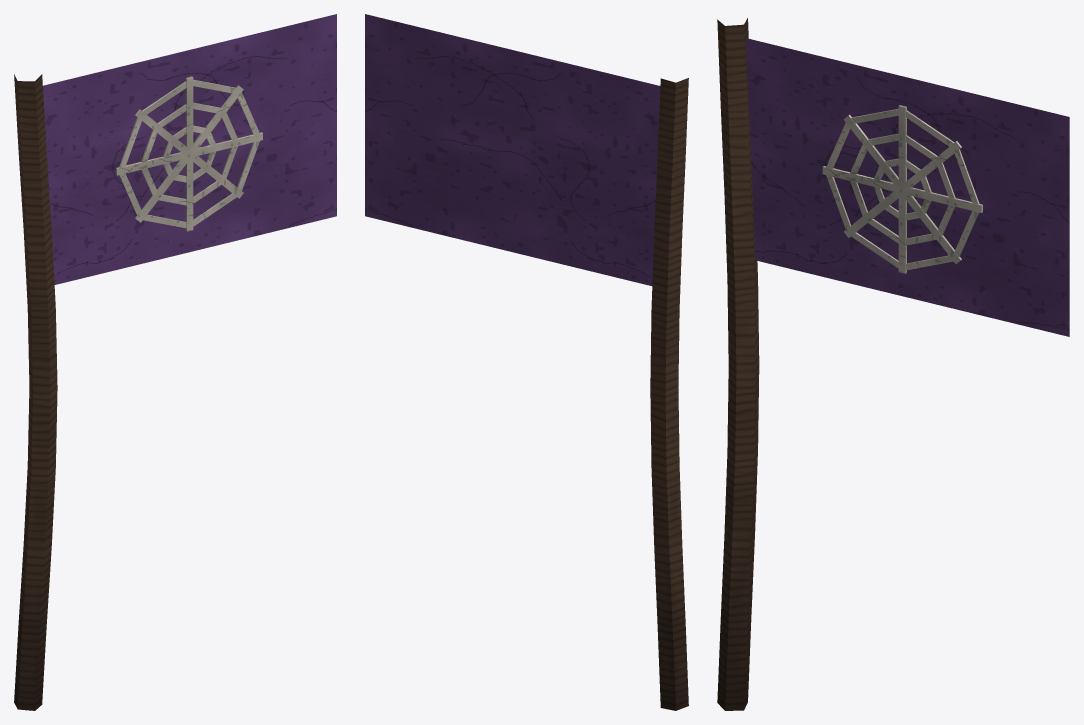
Rendered from flag_tisseuses.glb.
The picture shows the model from 3 angles, left to right: view 1: azimuth 30°, elevation 25°; view 2: azimuth 150°, elevation 25°; view 3: azimuth 330°, elevation 25°; orthographic projection. The views are drawn at different scales.
Parts seen in each view (by area): view 1: flag_tisseuses, group_2; view 2: flag_tisseuses; view 3: flag_tisseuses, group_2.
Boxes of the visible parts, x1=… form: flag_tisseuses: x1=14, y1=14, x2=336, y2=710; group_2: x1=116, y1=76, x2=262, y2=231; flag_tisseuses: x1=365, y1=14, x2=688, y2=710; flag_tisseuses: x1=717, y1=18, x2=1069, y2=710; group_2: x1=822, y1=105, x2=982, y2=273.
Size of the model in its own units: 7.49 by 14.03 by 0.6427.
3 materials, 3 textured.
